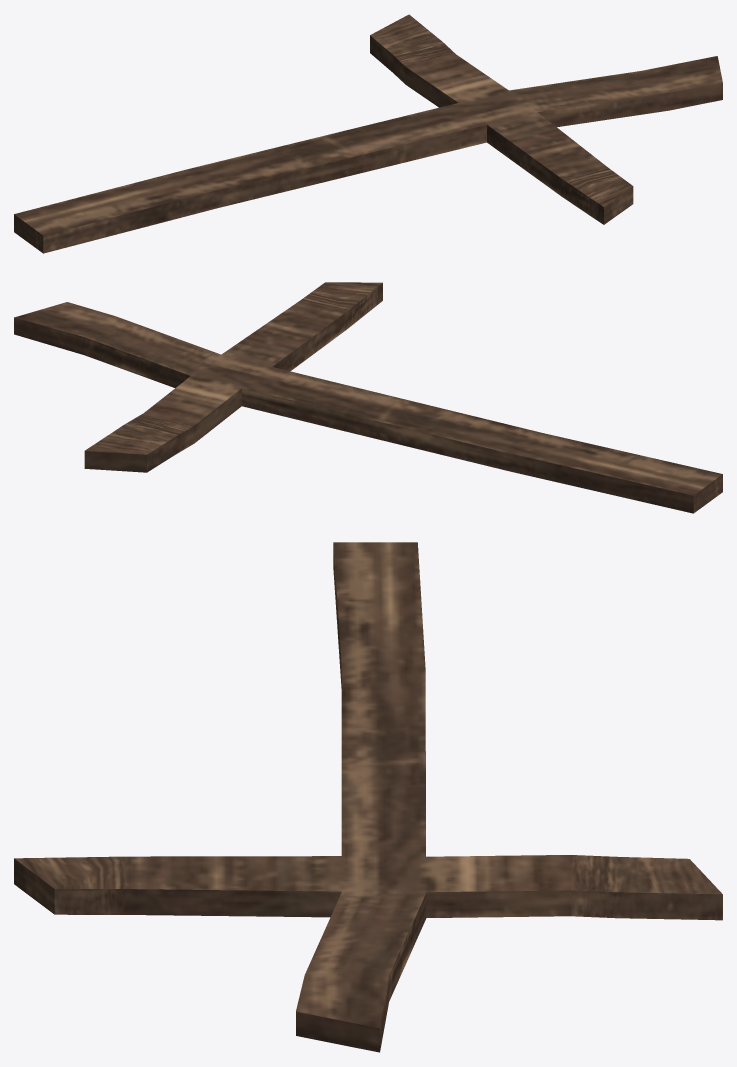
Rendered from SM_Corss_02.fbx.
3 views of the same model, one above another, from view 1: azimuth 30°, elevation 25°; view 2: azimuth 150°, elevation 25°; view 3: azimuth 270°, elevation 25° (orthographic). The views are drawn at different scales.
Visible parts, largest first — view 1: SM_Corss_02_LOD0; view 2: SM_Corss_02_LOD0; view 3: SM_Corss_02_LOD0.
Part boxes in pixels (bbox=[...]): SM_Corss_02_LOD0: bbox=[14, 14, 722, 253]; SM_Corss_02_LOD0: bbox=[14, 282, 722, 513]; SM_Corss_02_LOD0: bbox=[14, 542, 722, 1052].
Size of the model in its own units: 31.62 by 19.53 by 0.7868.
